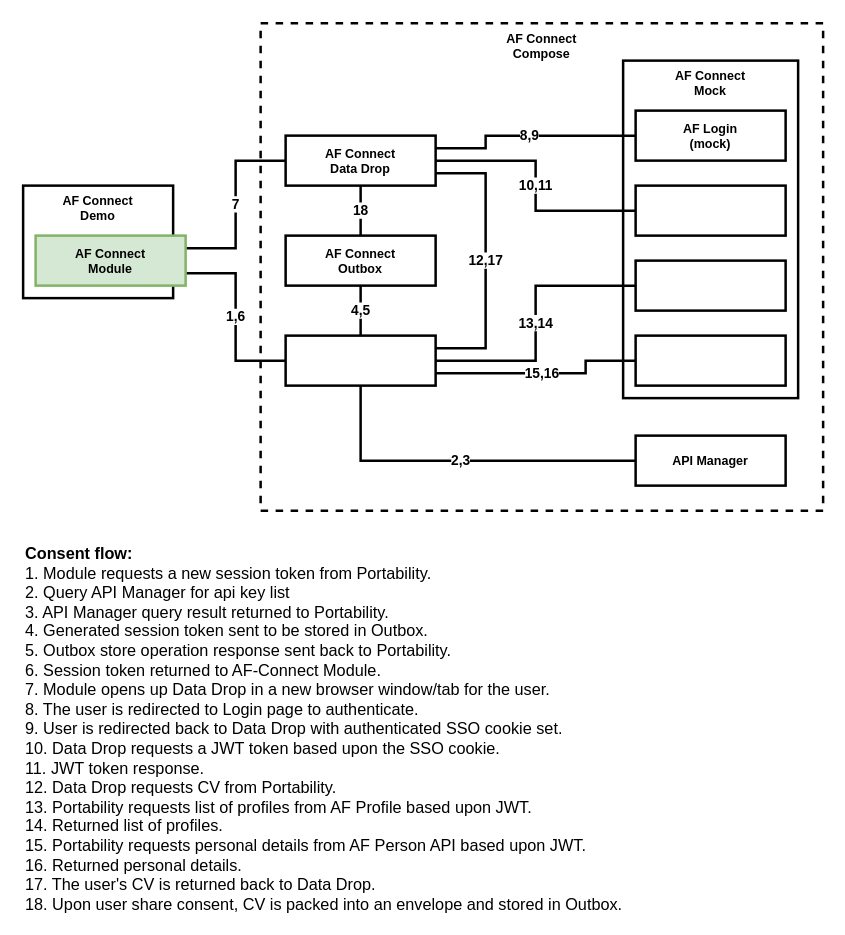
The diagram is 845 pixels wide and 935 high, and some of its shapes have lost their labels. The shapes that lost their labels are listed below. From the top down, each one's centre as x and y in pixels, then its label:
At point 710,210: "AF JWT (mock)".
At point 710,285: "AF Arbetssokandeprofil (mock)".
At point 360,360: "AF Connect Portability".
At point 710,360: "AF arbetssokande (mock)".
